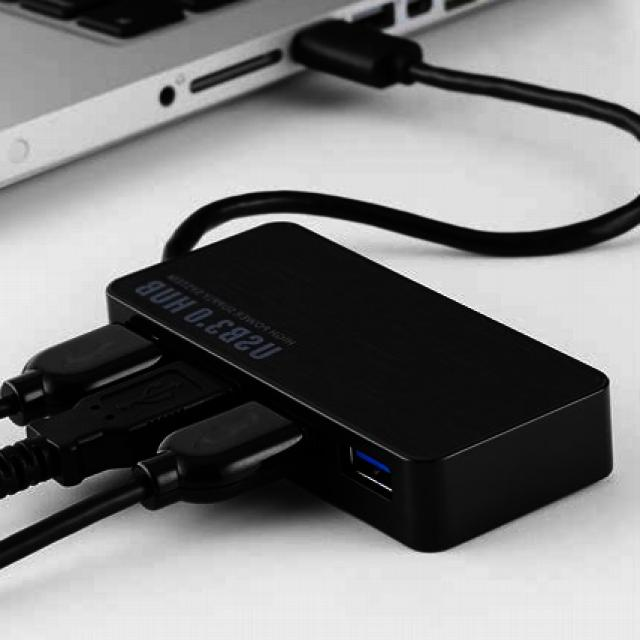usb port: (339, 450, 401, 489)
